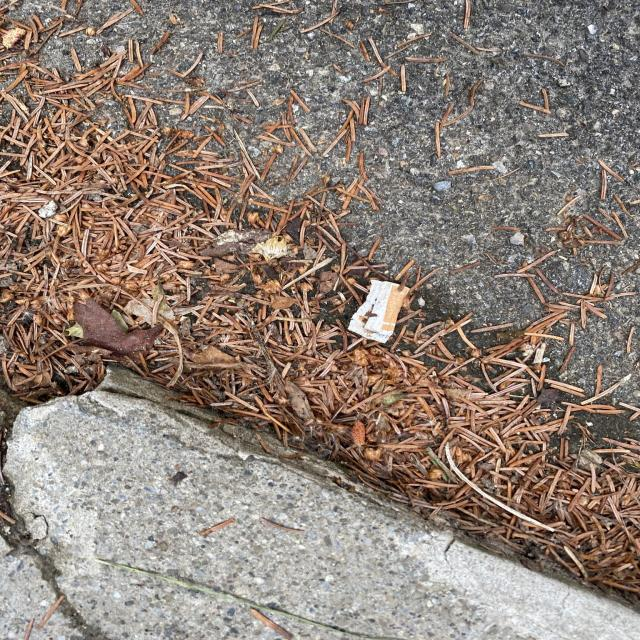other waste: (347, 279, 410, 343)
